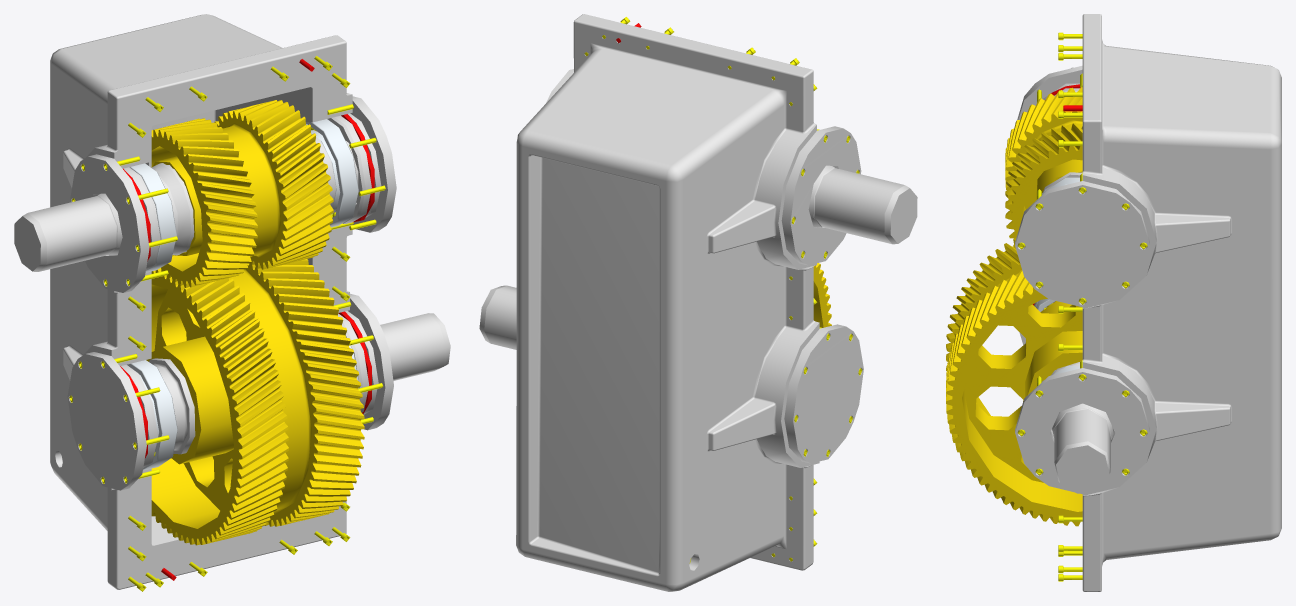
File: stirnradgetriebe.gltf
The picture shows the model from 3 angles, left to right: view 1: azimuth 30°, elevation 25°; view 2: azimuth 150°, elevation 25°; view 3: azimuth 270°, elevation 25°; orthographic projection. The views are drawn at different scales.
Parts seen in each view (by area): view 1: stirnradgetriebe_komplett; view 2: stirnradgetriebe_komplett; view 3: stirnradgetriebe_komplett.
Boxes of the visible parts, box(x1,y1,x2,y2) form: stirnradgetriebe_komplett: box(14, 14, 450, 591); stirnradgetriebe_komplett: box(479, 14, 917, 591); stirnradgetriebe_komplett: box(946, 14, 1281, 591).
Bounding box in the file's own units: 703 × 810 × 523.
